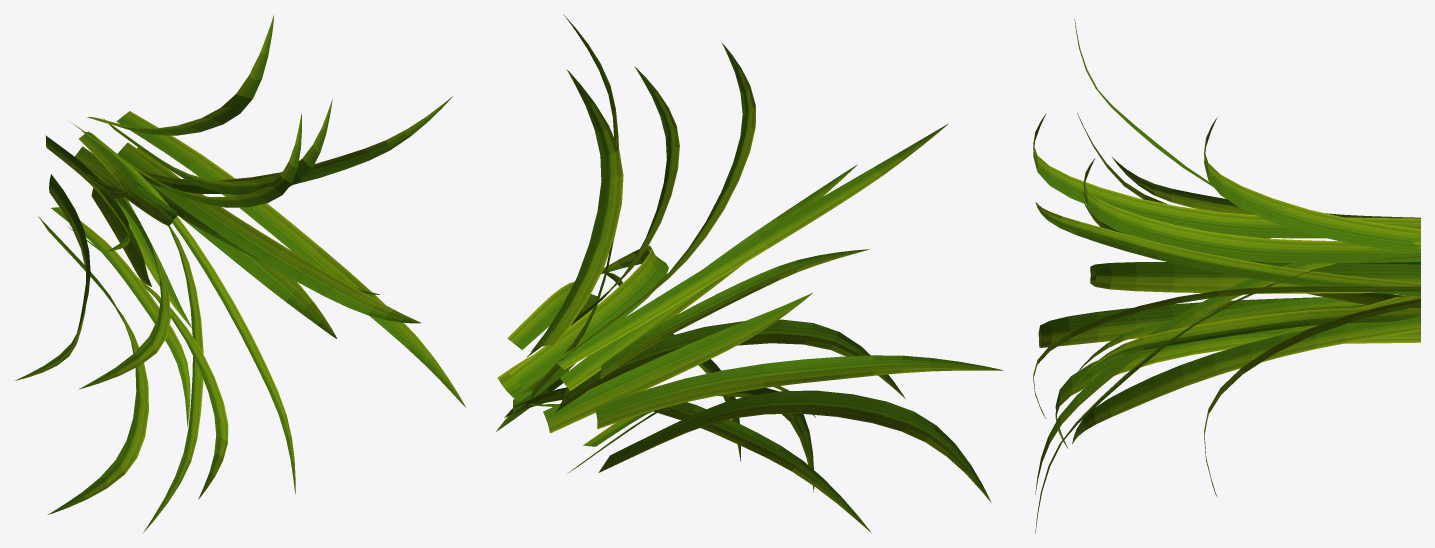
File: High_Grass.133_Material.075.obj
3 views of the same model, side by side, from view 1: azimuth 30°, elevation 25°; view 2: azimuth 150°, elevation 25°; view 3: azimuth 270°, elevation 25° (orthographic). The views are drawn at different scales.
Parts seen in each view (by area): view 1: High_Grass.133; view 2: High_Grass.133; view 3: High_Grass.133.
Part boxes in pixels (x1=…): High_Grass.133: x1=15, y1=15, x2=465, y2=532; High_Grass.133: x1=496, y1=14, x2=1003, y2=533; High_Grass.133: x1=1033, y1=18, x2=1420, y2=533.
Bounding box in the file's own units: 1.71 × 1.59 × 1.3.
